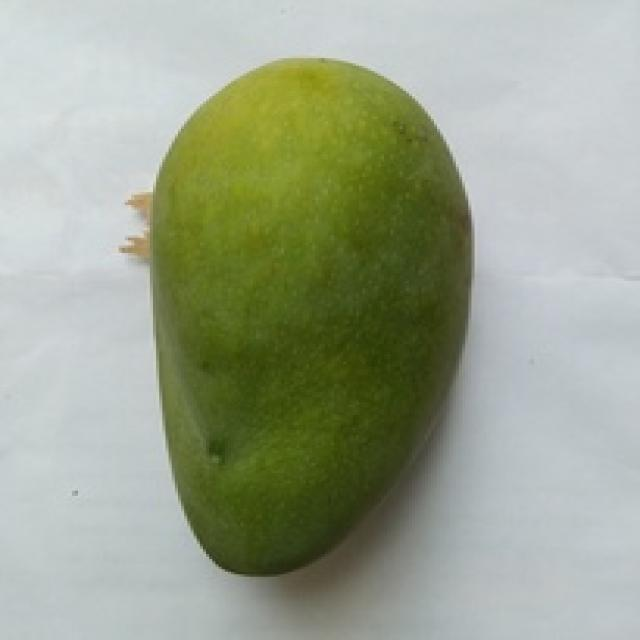Mango: (153, 58, 471, 572)
